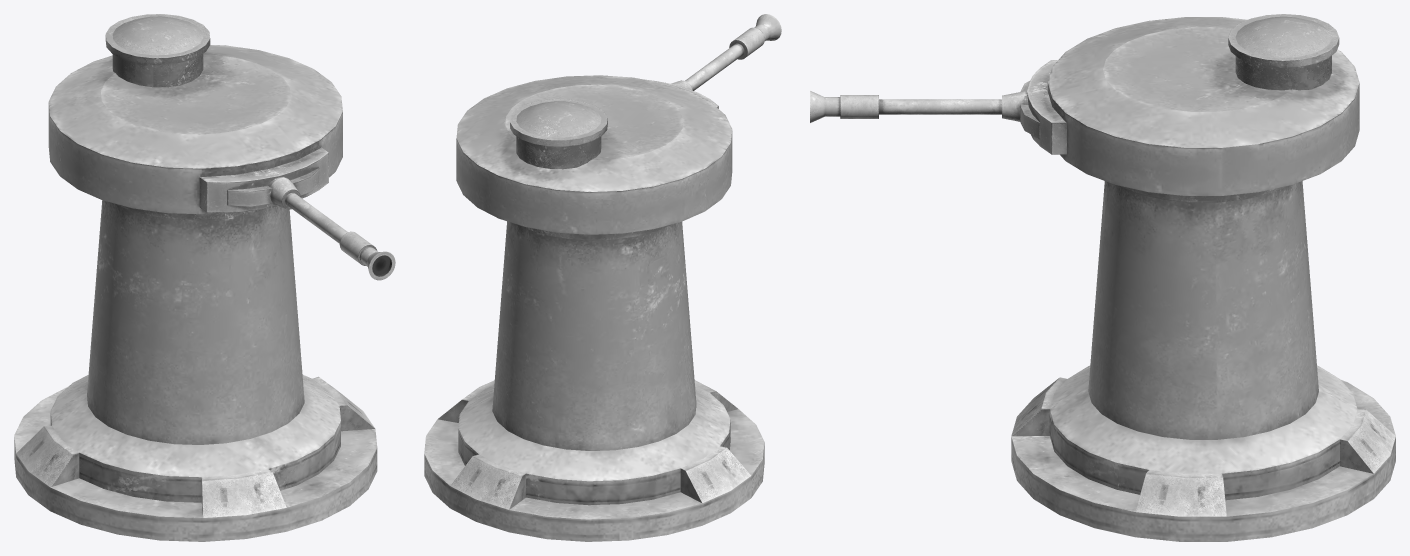
File: turret.glb
The picture shows the model from 3 angles, left to right: view 1: azimuth 30°, elevation 25°; view 2: azimuth 150°, elevation 25°; view 3: azimuth 270°, elevation 25°; orthographic projection. The views are drawn at different scales.
Visible parts, largest first — view 1: pCylinder7_standardSurface1_0; view 2: pCylinder7_standardSurface1_0; view 3: pCylinder7_standardSurface1_0.
Boxes of the visible parts, box(x1,y1,x2,y2) form: pCylinder7_standardSurface1_0: box(14, 14, 395, 541); pCylinder7_standardSurface1_0: box(424, 14, 781, 541); pCylinder7_standardSurface1_0: box(810, 14, 1395, 541).
Bounding box in the file's own units: 3.18 × 4 × 4.88.
1 material, 1 textured.
